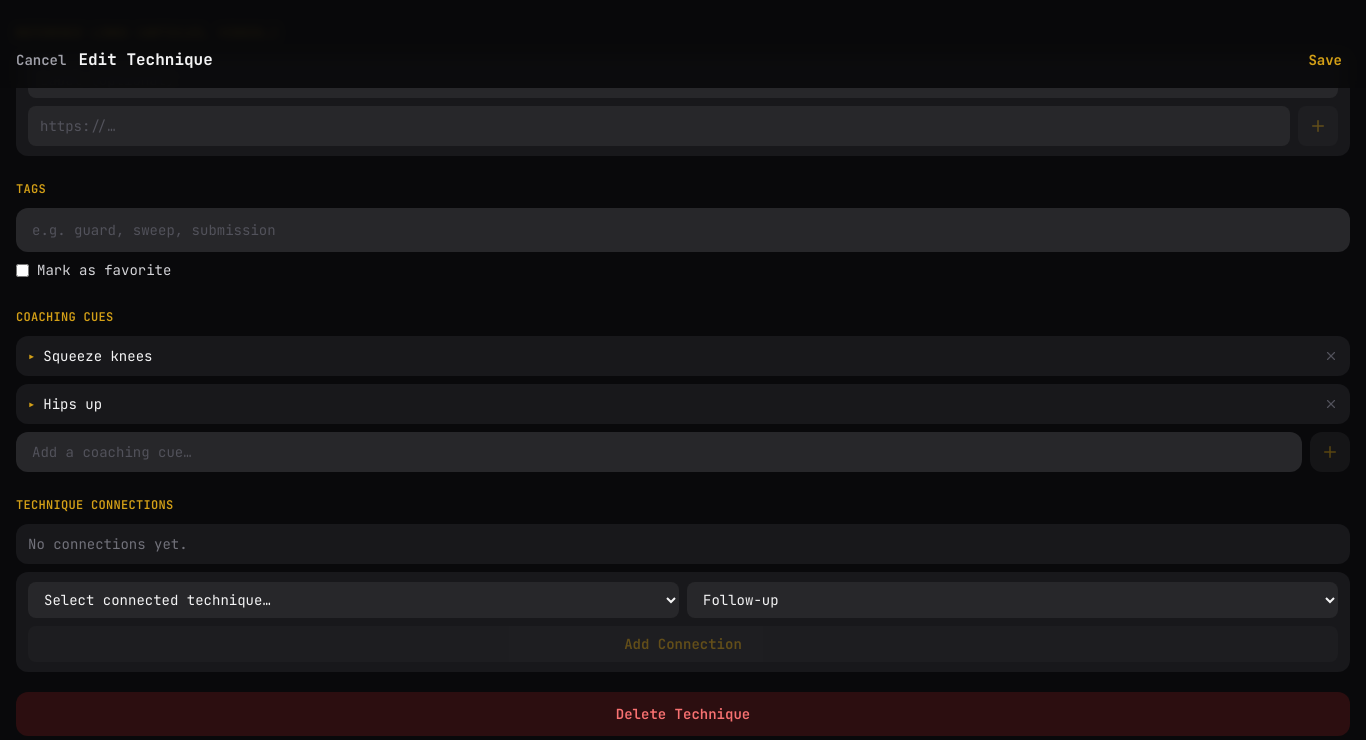
Test: TechniqueEditPage — edit existing technique › adds a coaching cue with Enter
(page scrolled)
Type "Hip escape first" into the field with placeholder "Add a coaching cue…" at (659, 452), box [16, 432, 1302, 472]
Then press Enter
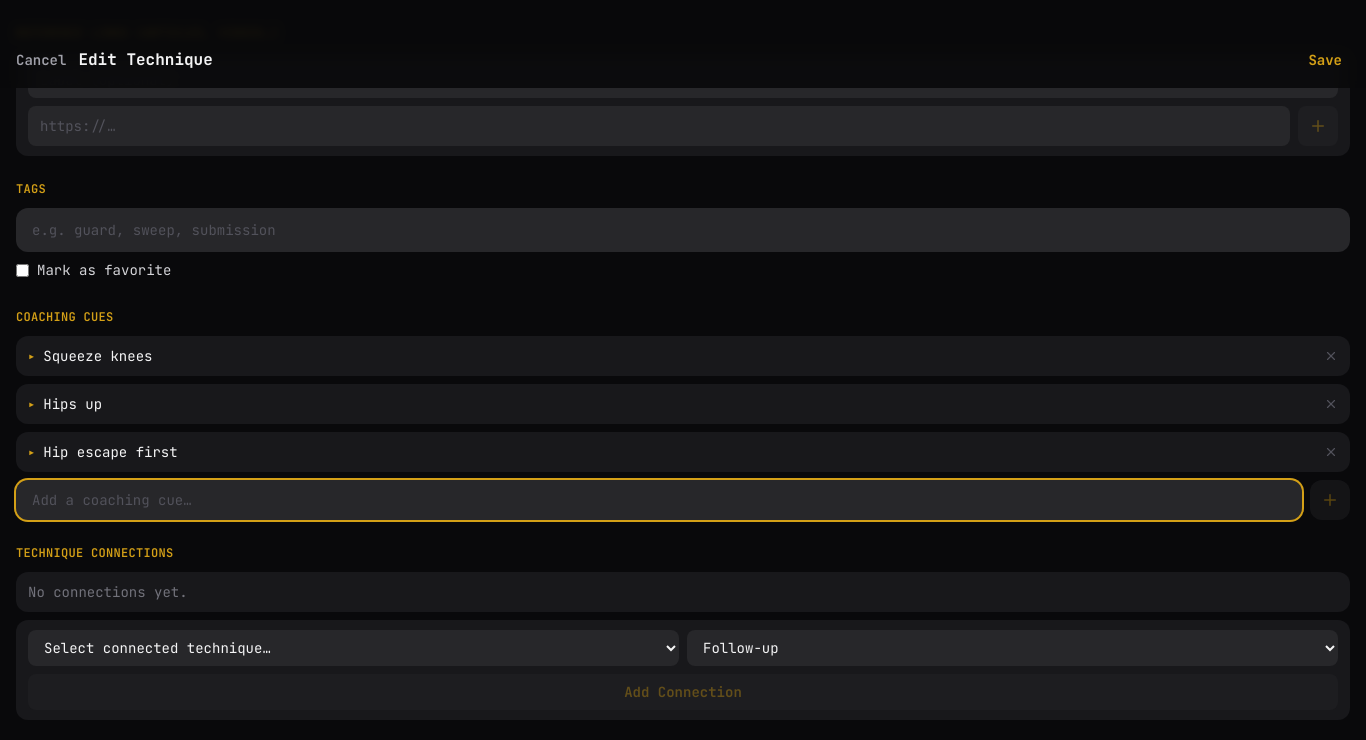
Check: the text "Hip escape first" is shown, box [43, 442, 178, 460]
